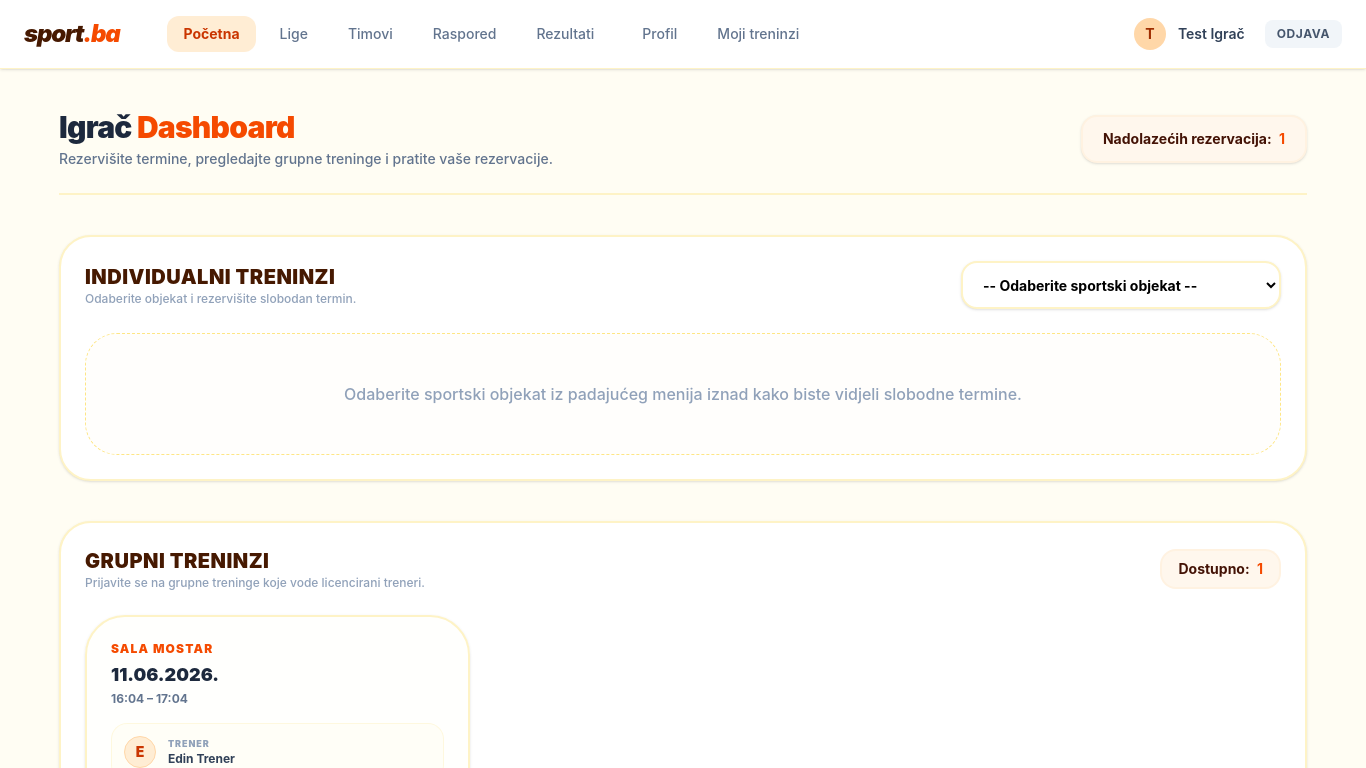
PlayerDashboard — individualni treninzi › otvara modal za rezervaciju na klik slobodnog termina
Select "Arena Sarajevo" in the dropdown at (1121, 285), box [961,261,1281,309]
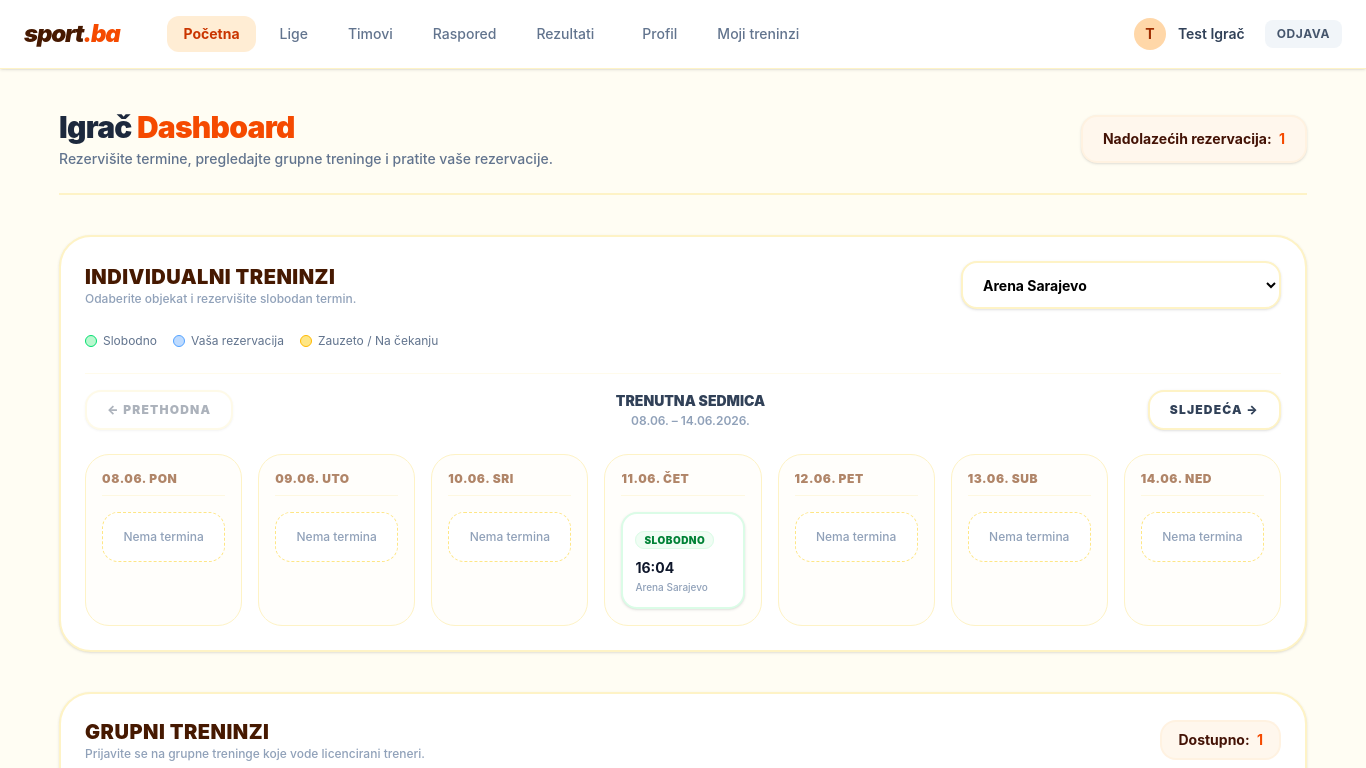
Note: Klikni na dugme termina koje sadrži "Slobodno" span — uzmi zadnji jer legenda je prvi
Click the button "Slobodno 16:04 Arena Sarajevo" at (683, 560), box [621,512,744,609]
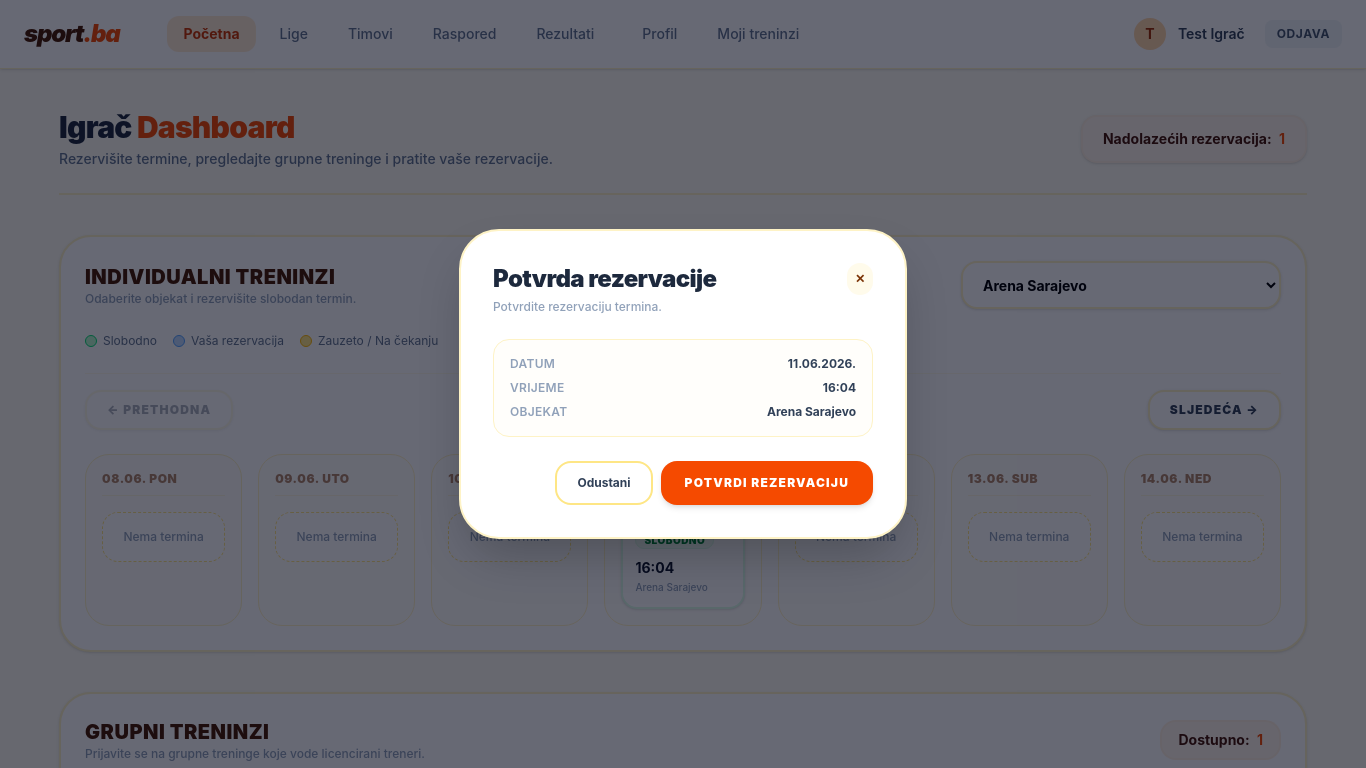
Now the heading "Potvrda rezervacije" is shown, box [493,263,717,295]
